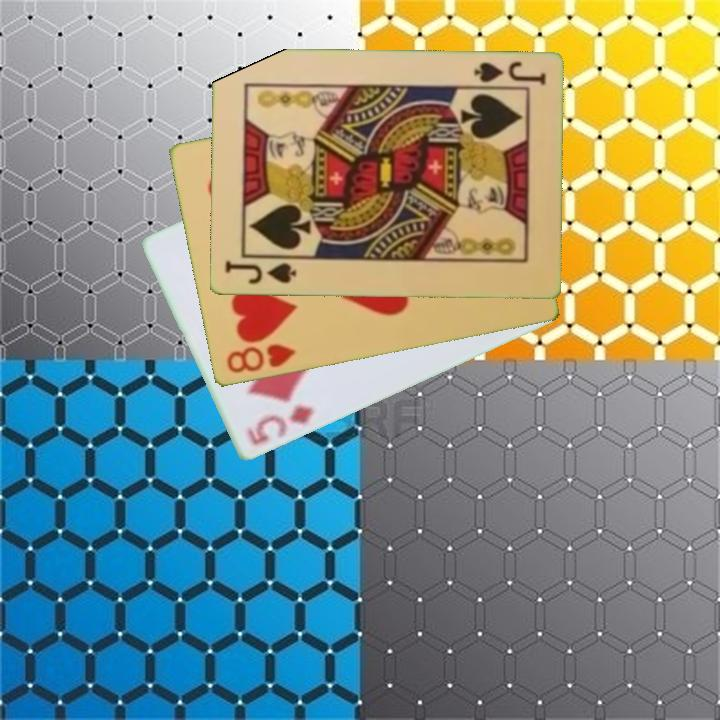5d: (243, 402, 318, 449)
8h: (223, 341, 299, 377)
Js: (469, 59, 549, 90), (221, 257, 299, 288)
